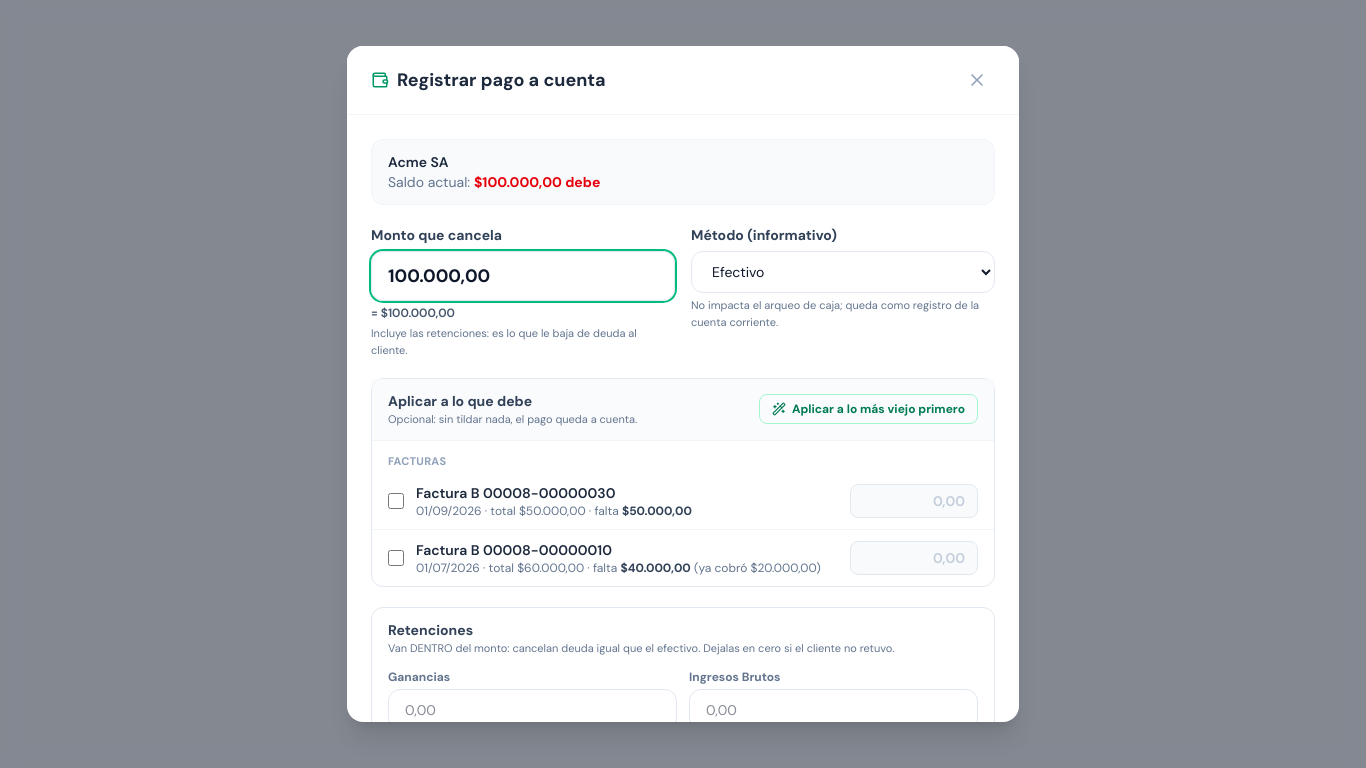
Test case: RegisterPaymentModal › aplicar a lo más viejo primero salda la vieja antes de tocar la nueva
Click the button "Aplicar a lo más viejo primero". click: (868, 409)
box: x1=759 y1=394 x2=978 y2=424
(page scrolled)
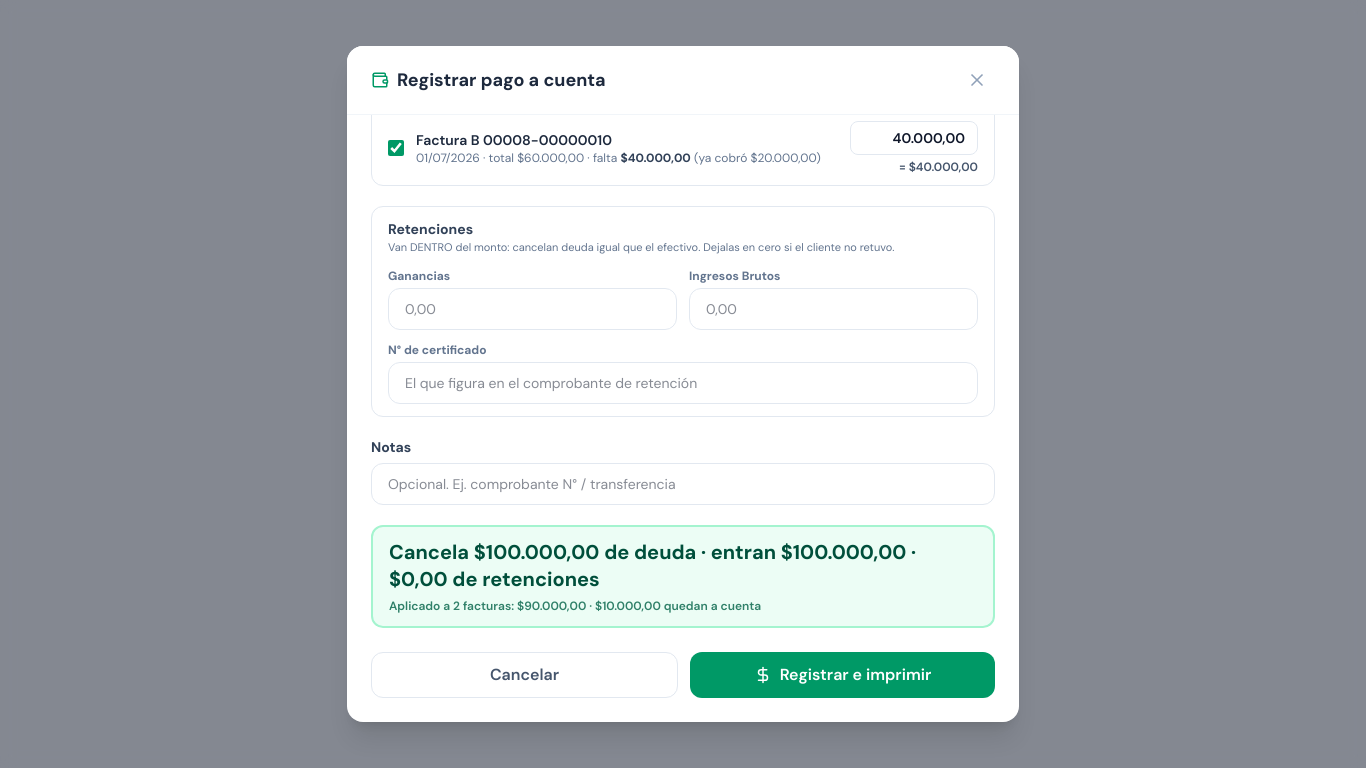
Expected: the element with test id "pago-resumen" shows "Aplicado a 2 facturas", x1=389 y1=598 x2=761 y2=614
Expected: the element with test id "pago-resumen" shows "$10.000,00 quedan a cuenta", x1=389 y1=598 x2=761 y2=614
